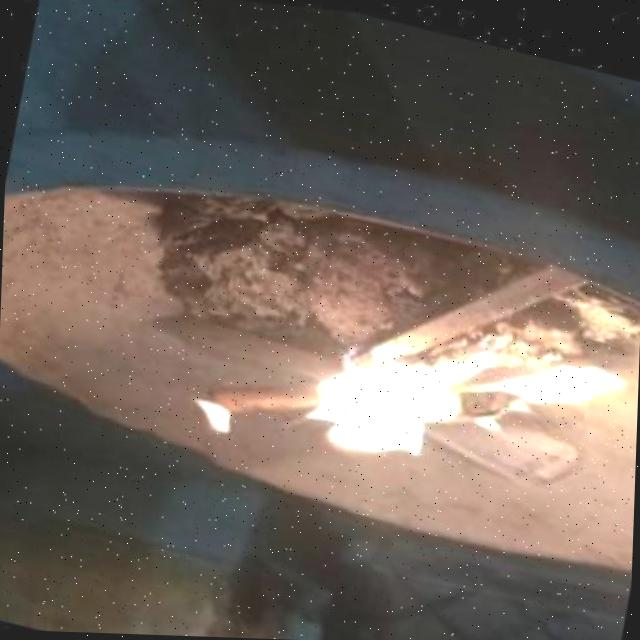fire: (189, 294, 623, 468)
